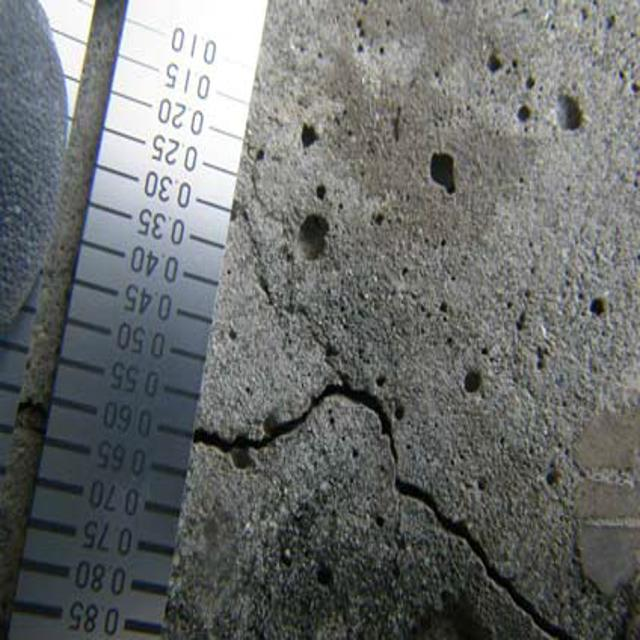crack: (206, 361, 578, 640)
